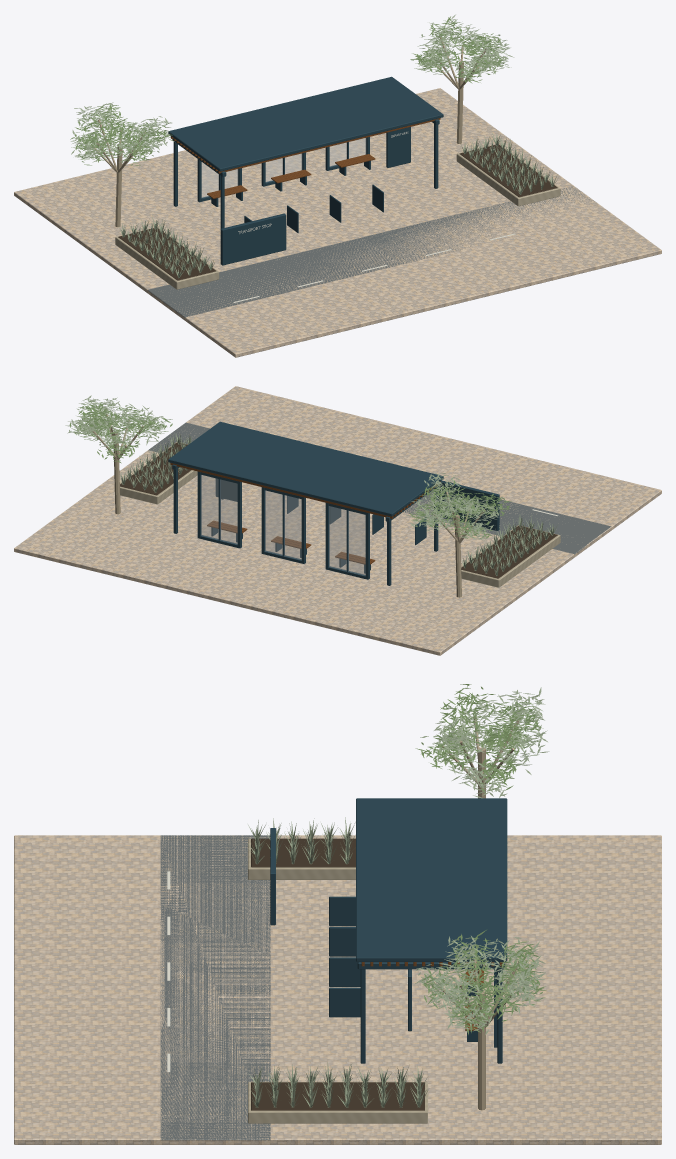
File: transport.glb
The picture shows the model from 3 angles, top to bottom: view 1: azimuth 30°, elevation 25°; view 2: azimuth 150°, elevation 25°; view 3: azimuth 270°, elevation 25°; orthographic projection. The views are drawn at different scales.
Parts seen in each view (by area): view 1: Whole item paving.008, Shelter roof, Transit bay, Place identity.003, Mulch.021, Mulch.020, Garden edge.020, Garden edge.021, window-2m part.058, Departure board, window-2m part.060, window-2m part.059 (+1 smaller); view 2: Whole item paving.008, Shelter roof, Transit bay, window-2m part.060, window-2m part.059, window-2m part.058, Mulch.020, Place identity.003, Mulch.021, Garden edge.020, Garden edge.021, Timber shade slat.128 (+1 smaller); view 3: Whole item paving.008, Transit bay, Shelter roof, Mulch.021, Garden edge.021, Mulch.020, Garden edge.020, Cycle stand.003, Cycle stand.002, Cycle stand, Cycle stand.001, Shade beam.009 (+1 smaller).
Part boxes in pixels (x1,y1,x2,y2): Whole item paving.008: [14, 88, 661, 357]; Shelter roof: [168, 76, 443, 171]; Transit bay: [147, 186, 596, 317]; Place identity.003: [220, 213, 286, 265]; Mulch.021: [459, 144, 557, 197]; Mulch.020: [118, 227, 215, 280]; Garden edge.020: [115, 227, 219, 289]; Garden edge.021: [456, 144, 560, 206]; window-2m part.058: [197, 159, 241, 202]; Departure board: [386, 127, 410, 167]; window-2m part.060: [325, 137, 369, 170]; window-2m part.059: [261, 152, 305, 186]; Whole item paving.008: [14, 386, 661, 655]; Shelter roof: [168, 421, 443, 516]; Transit bay: [148, 422, 611, 554]; window-2m part.060: [197, 471, 241, 548]; window-2m part.059: [261, 487, 305, 563]; window-2m part.058: [325, 503, 369, 579]; Mulch.020: [461, 526, 557, 578]; Place identity.003: [438, 480, 499, 530]; Mulch.021: [120, 442, 191, 495]; Garden edge.020: [461, 525, 560, 587]; Garden edge.021: [120, 442, 197, 504]; Timber shade slat.128: [170, 463, 393, 518]; Whole item paving.008: [14, 835, 661, 1144]; Transit bay: [160, 835, 270, 1140]; Shelter roof: [356, 798, 507, 961]; Mulch.021: [251, 1082, 424, 1110]; Garden edge.021: [248, 1082, 427, 1123]; Mulch.020: [251, 838, 355, 867]; Garden edge.020: [248, 838, 355, 879]; Cycle stand.003: [329, 987, 360, 1017]; Cycle stand.002: [329, 957, 360, 986]; Cycle stand: [329, 896, 355, 926]; Cycle stand.001: [329, 927, 355, 956]; Shade beam.009: [357, 962, 505, 969].
Bounding box in the file's own units: 20.37 × 5.13 × 18.
Materials: 11 (3 with a texture image).
